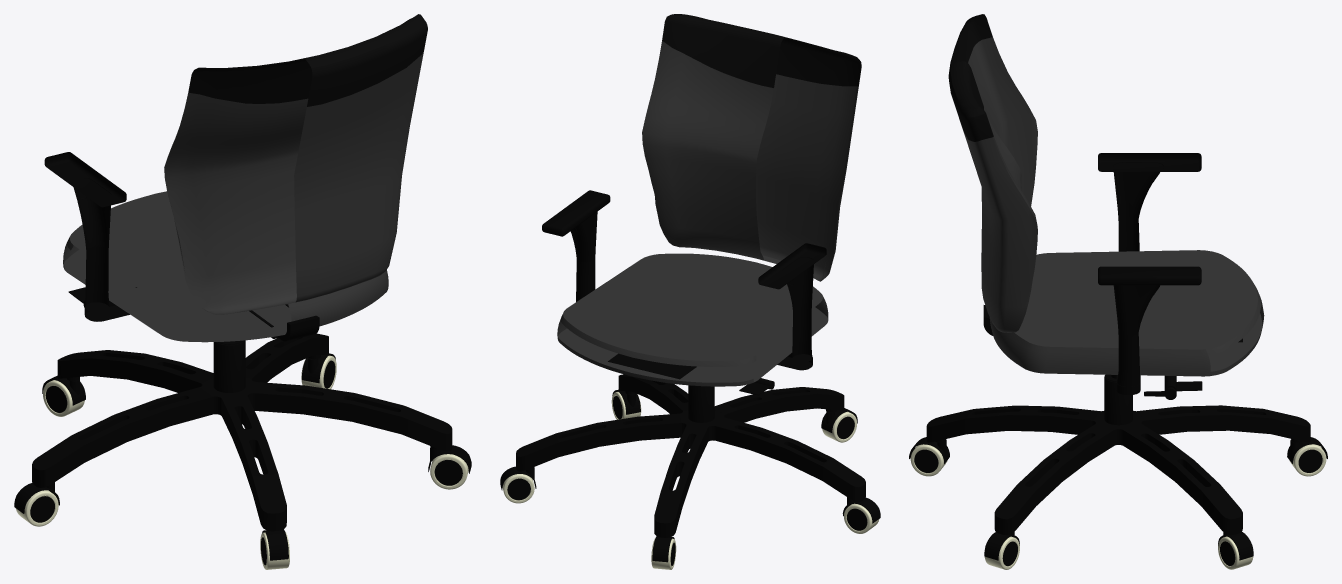
The model's file is bloomberg_chair.fbx.
3 renders of one model, left to right at view 1: azimuth 30°, elevation 25°; view 2: azimuth 150°, elevation 25°; view 3: azimuth 270°, elevation 25°, orthographic. The views are drawn at different scales.
Visible parts, largest first — view 1: bloomberg_chair; view 2: bloomberg_chair; view 3: bloomberg_chair.
Part boxes in pixels (left/top/right/bottom): bloomberg_chair: left=14, top=14, right=471, bottom=569; bloomberg_chair: left=500, top=14, right=880, bottom=569; bloomberg_chair: left=909, top=14, right=1327, bottom=569.
Bounding box in the file's own units: 85.86 × 104 × 90.26.
